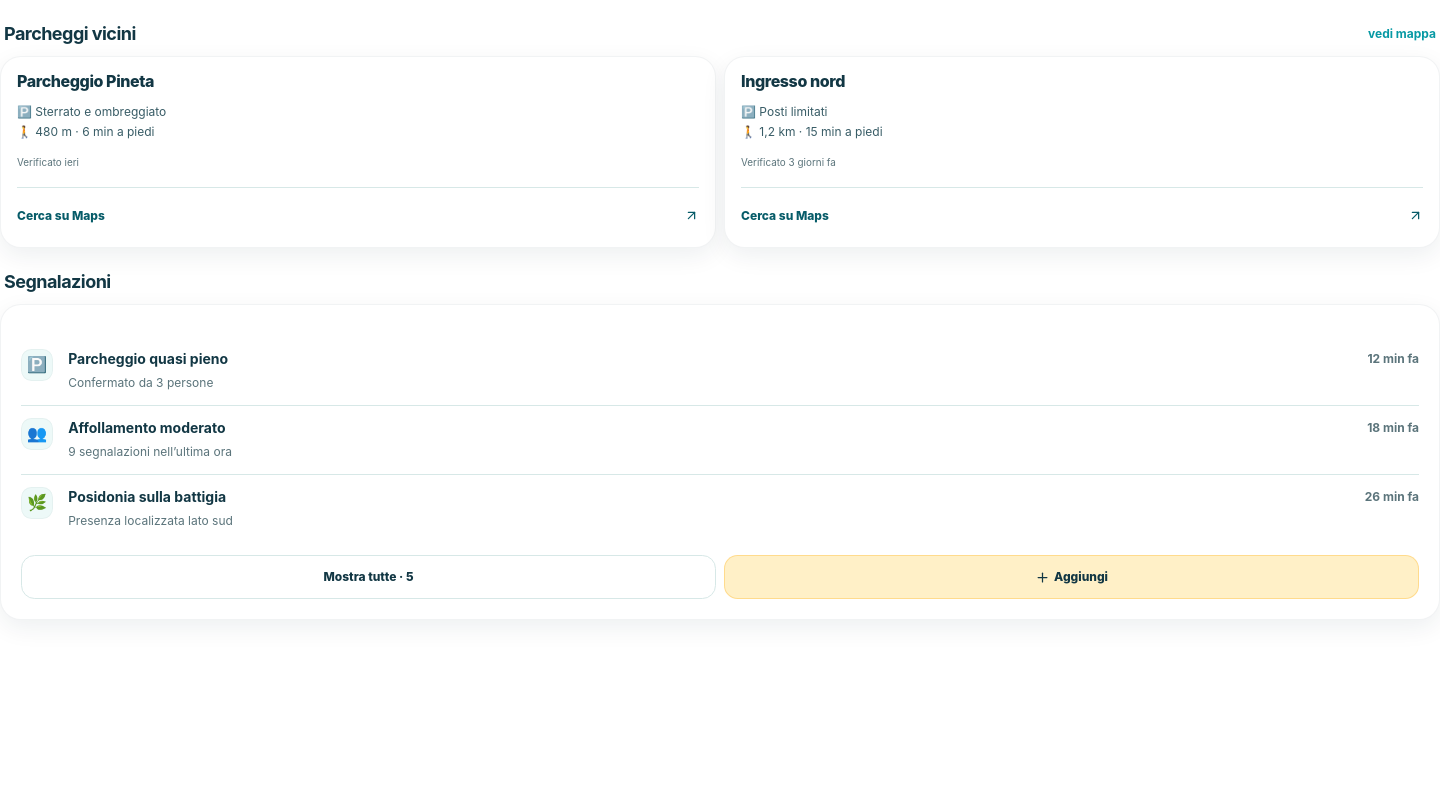
it: BeachLiveSections › shows parking before three reports without redundant live-status copy
Expected: the heading "Segnalazioni" is shown, [4,268,111,296]
Expected: the number of list items is 3, [21,337,1419,406]; [21,406,1419,475]; [21,475,1419,543]
Click the button "Aggiungi": (1072, 577) [724,555,1419,599]
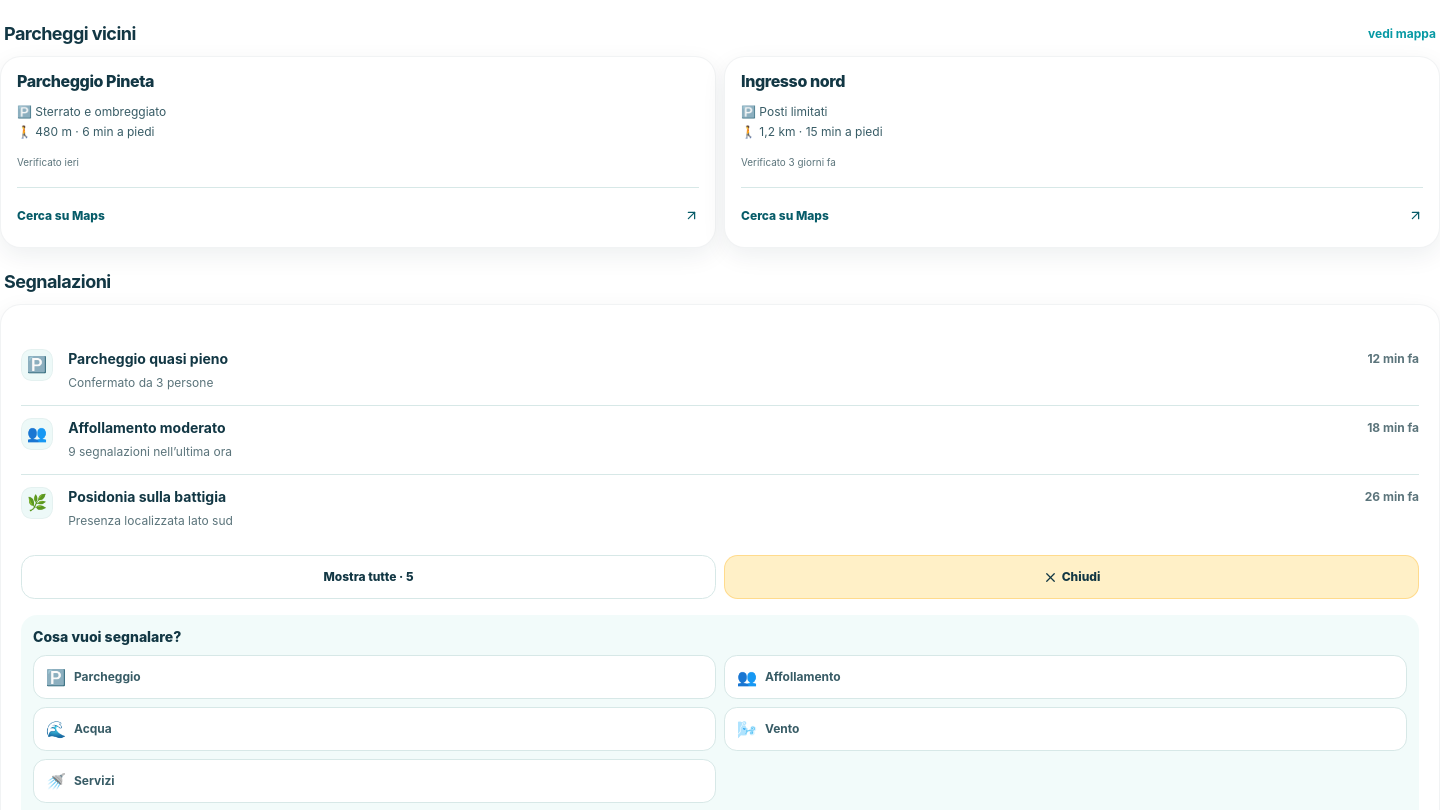
Click the radio button labelled "Acqua": (93, 728) [33,707,716,751]
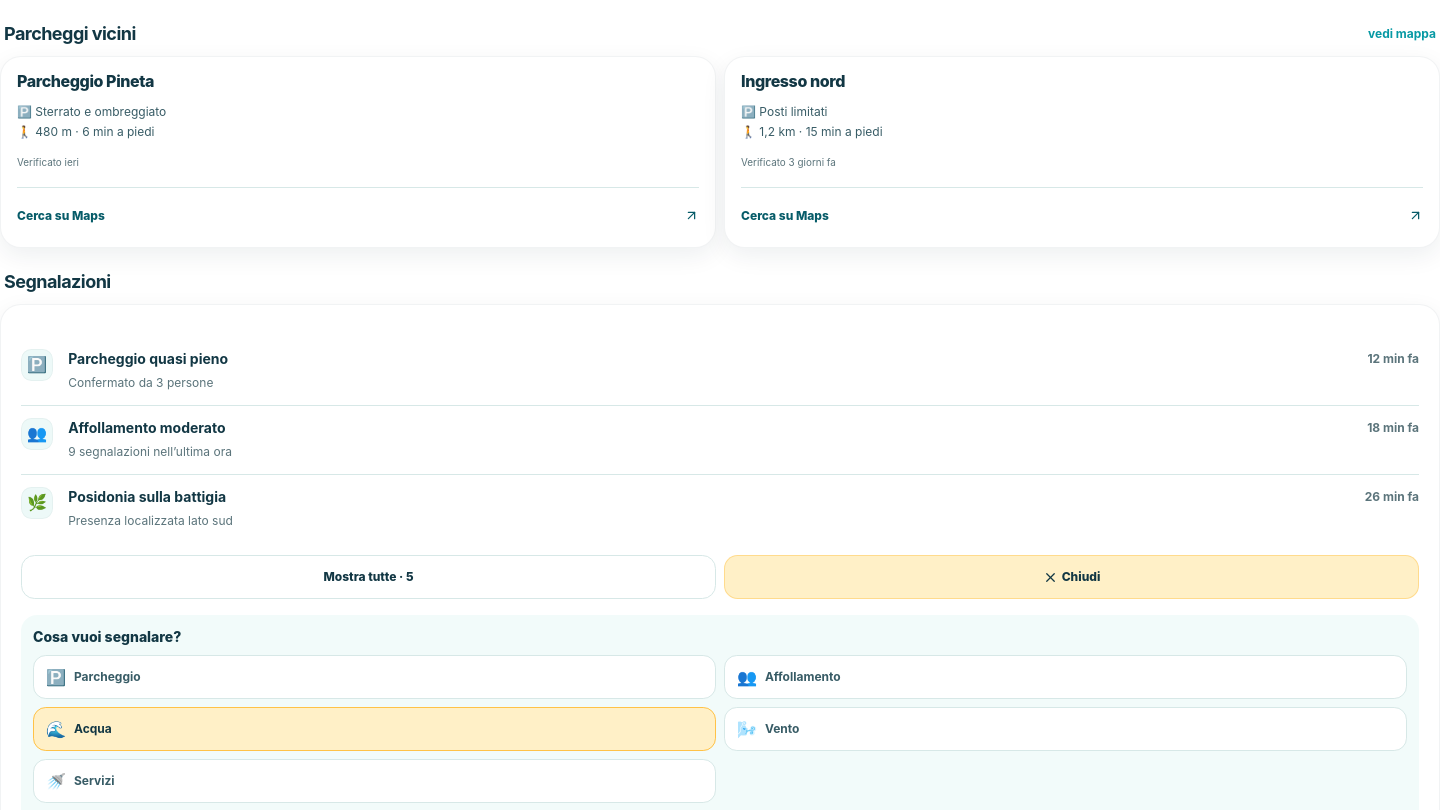
Click the button "Chiudi": (1072, 577) [724,555,1419,599]
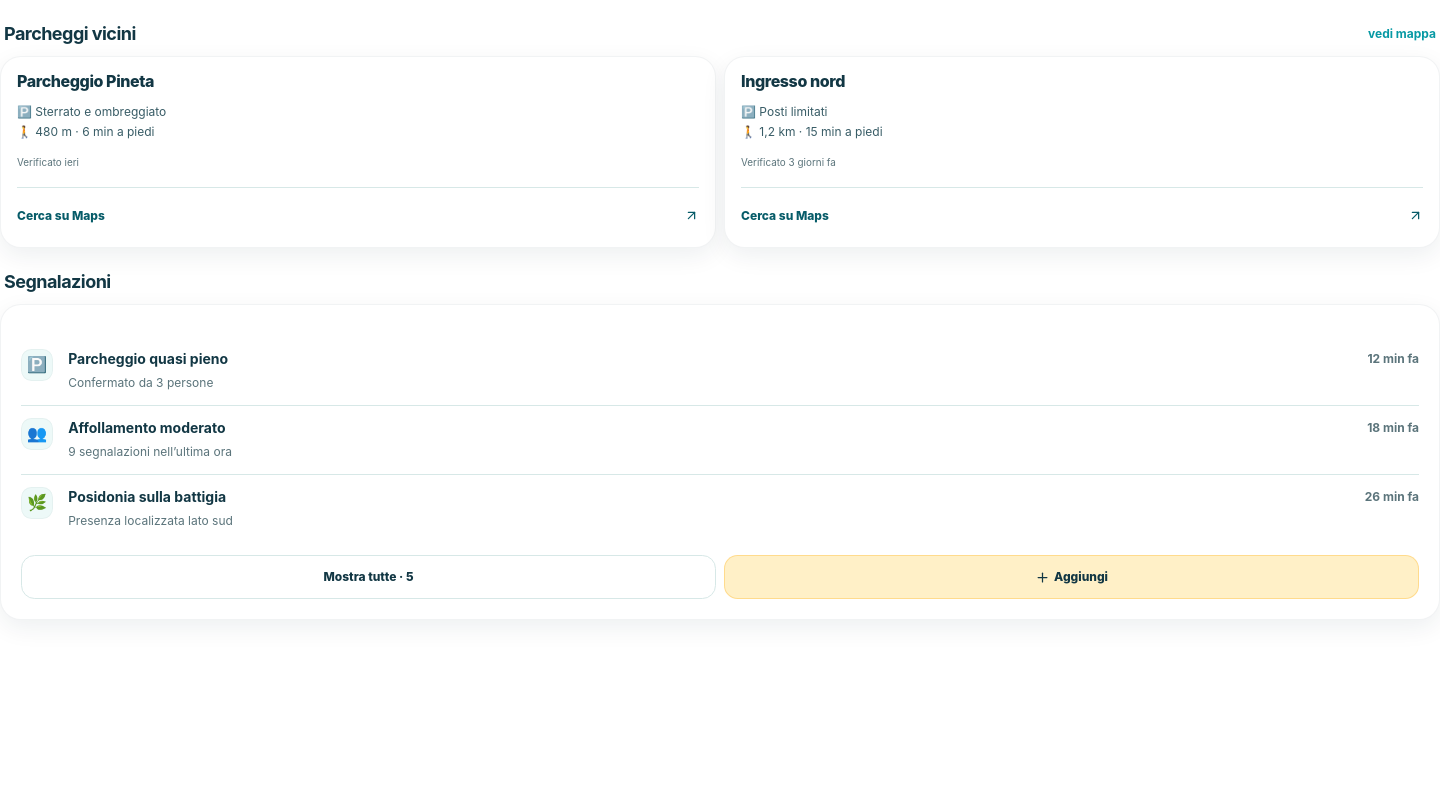
Click the button "Mostra tutte · 5": (368, 577) [21,555,716,599]
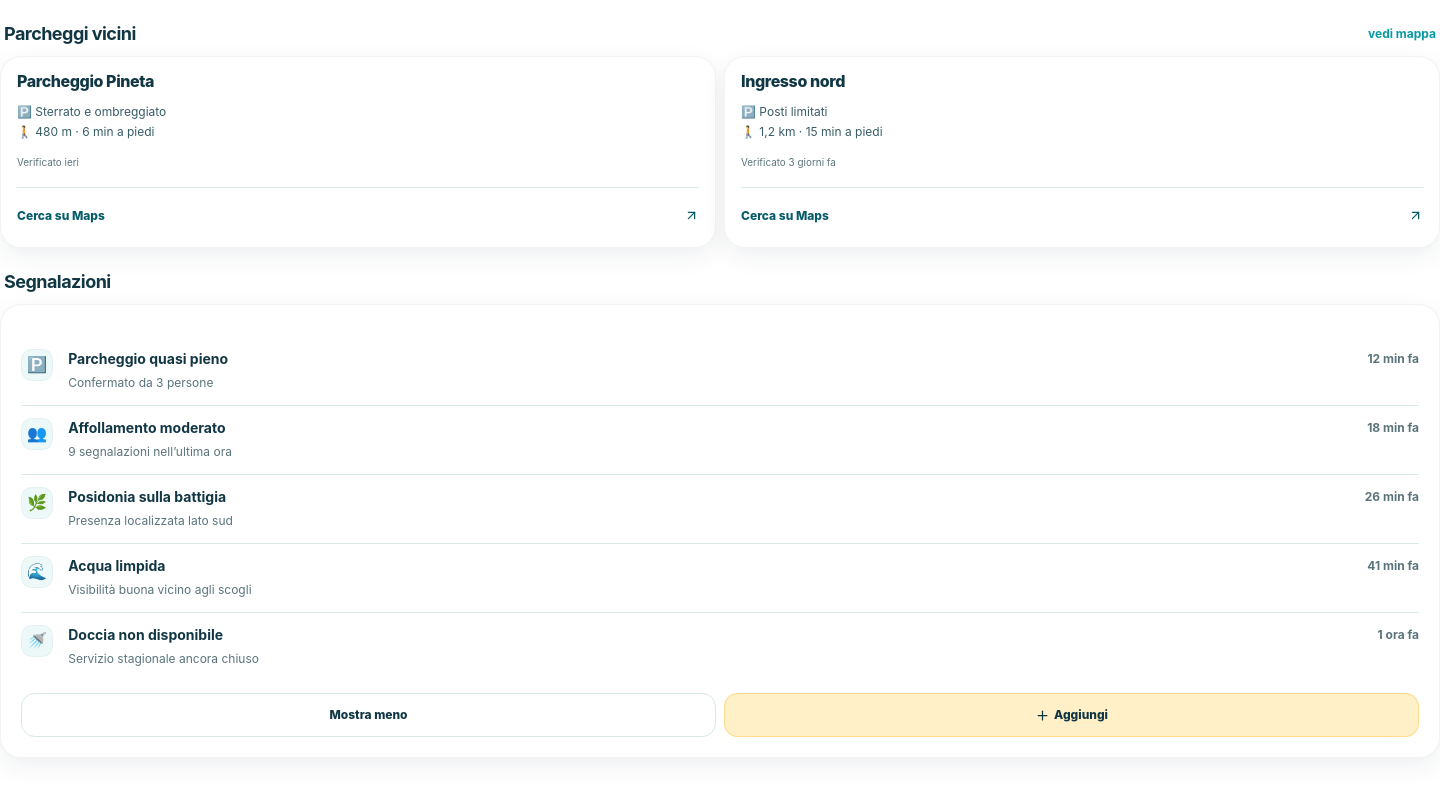
Result: the number of list items is 5 at [21,337,1419,406]; [21,406,1419,475]; [21,475,1419,544]; [21,544,1419,613]; [21,613,1419,681]
Click the button "Mostra meno": (368, 715) [21,693,716,737]
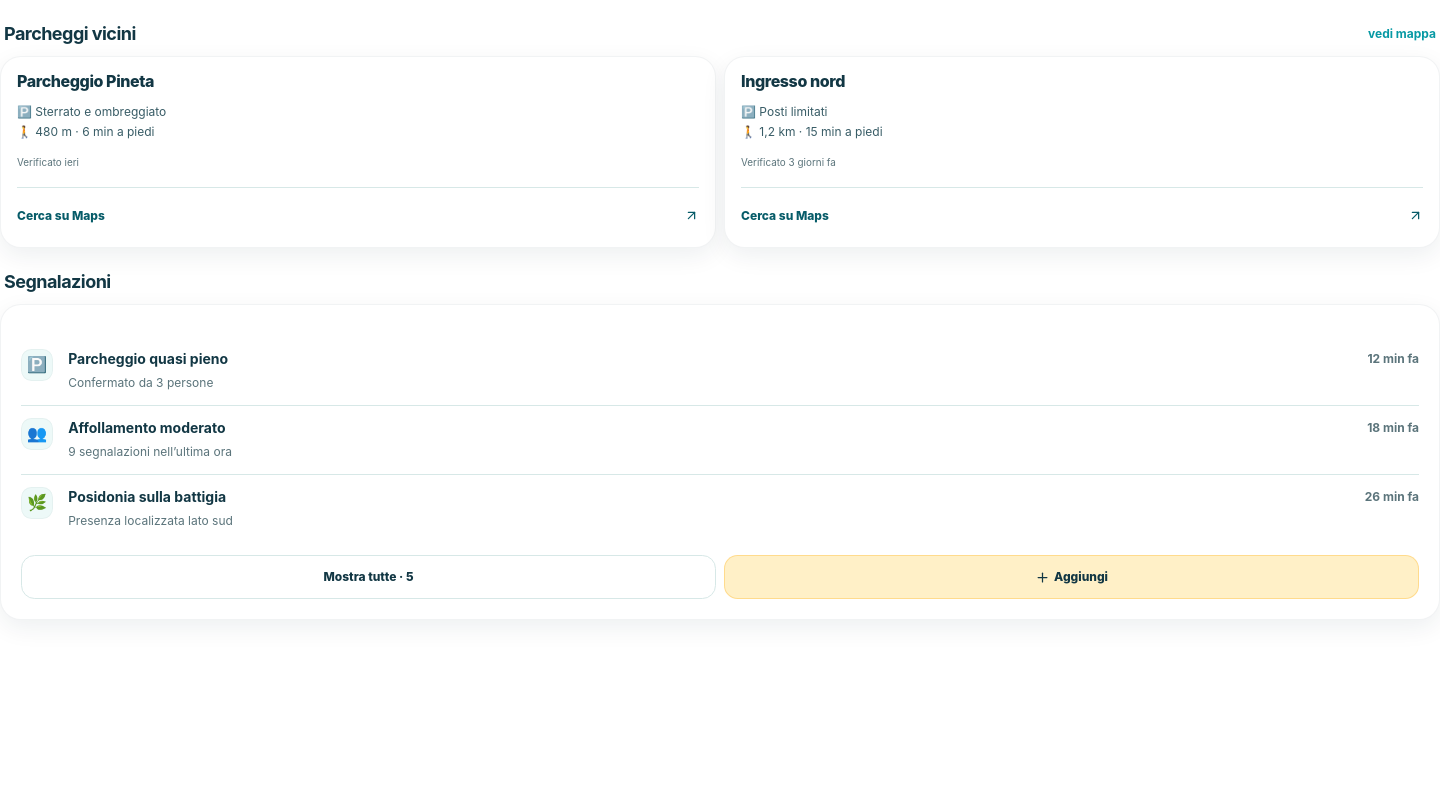
Result: the number of list items is 3 at [21,337,1419,406]; [21,406,1419,475]; [21,475,1419,543]
